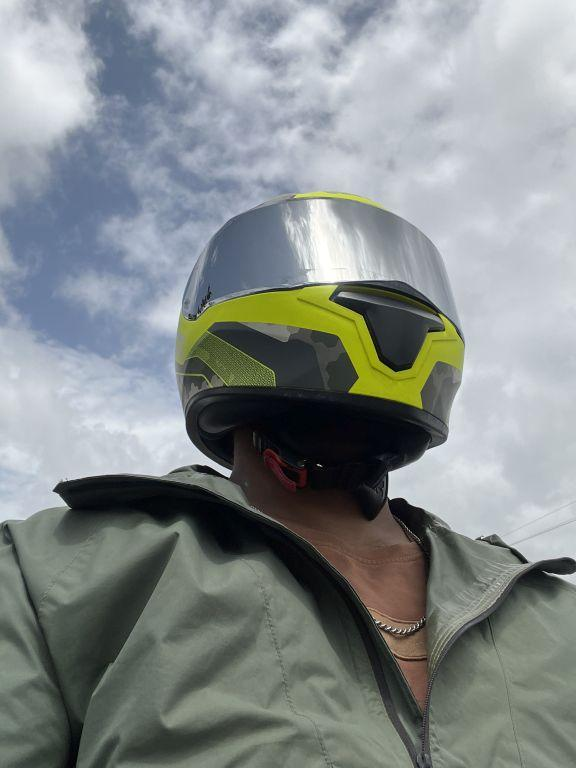helmet: (165, 174, 474, 499)
